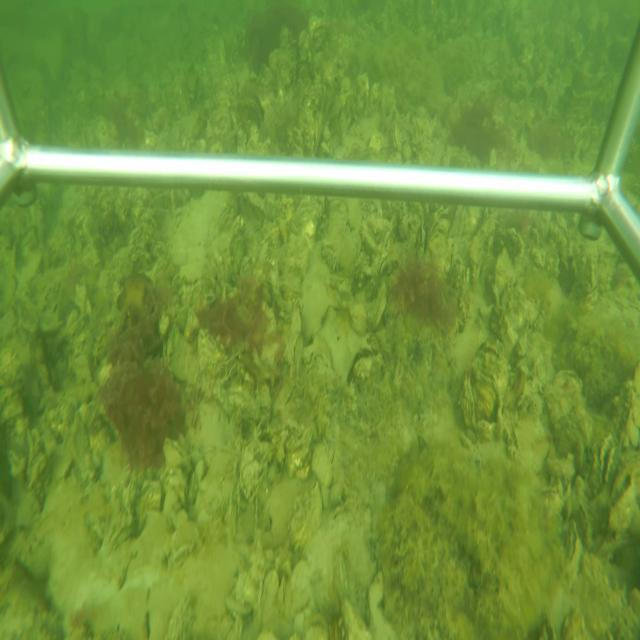Oyster-Closed: (280, 502, 379, 621), (283, 302, 305, 388)
Oyster-Indeterminate: (492, 247, 517, 309)
Oyster-Open: (602, 472, 634, 548), (599, 432, 615, 489)
